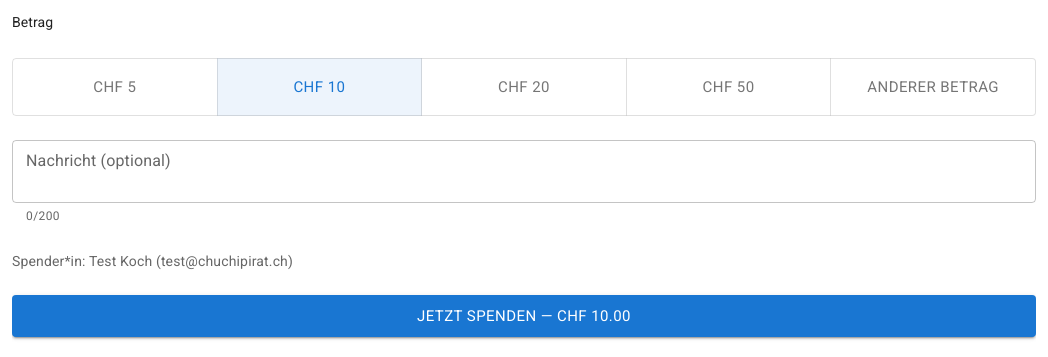
it: DonationForm › Nachrichten-Feld › Zeichenzaehler aktualisiert sich bei Eingabe
The image size is (1048, 357).
In the text box with placeholder "Deine Nachricht an uns...": x=524, y=172 [26,149,1022,195], type "Danke!"
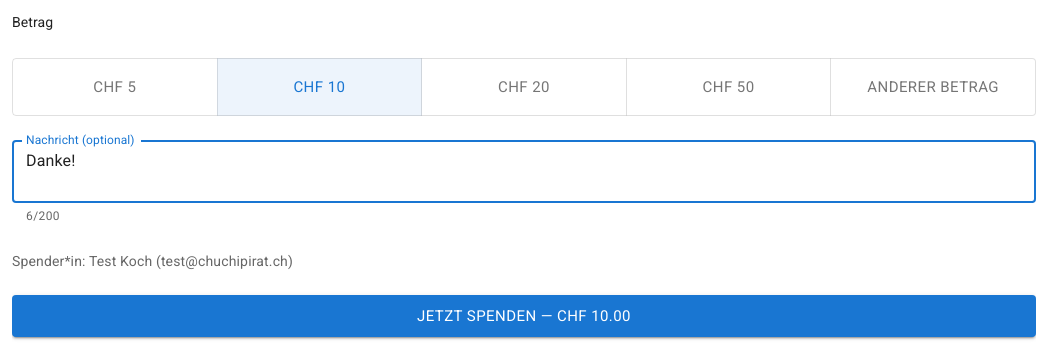
Check: the text "6/200" is shown, box [26,209,60,223]
